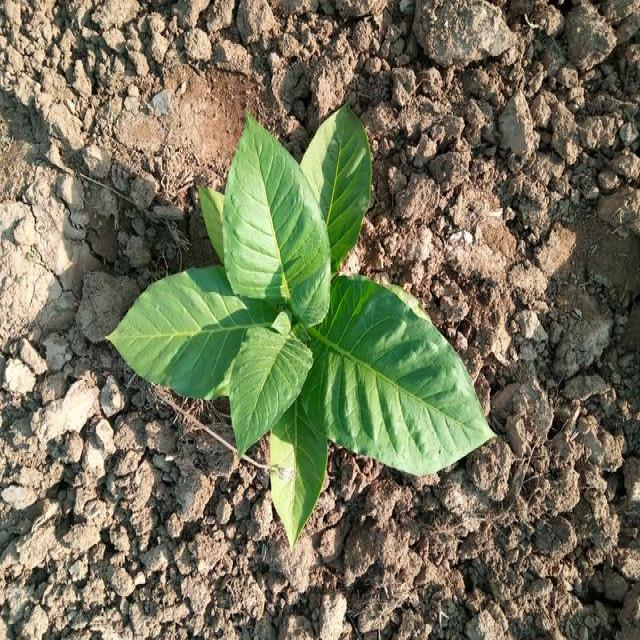crop: (127, 122, 490, 525)
